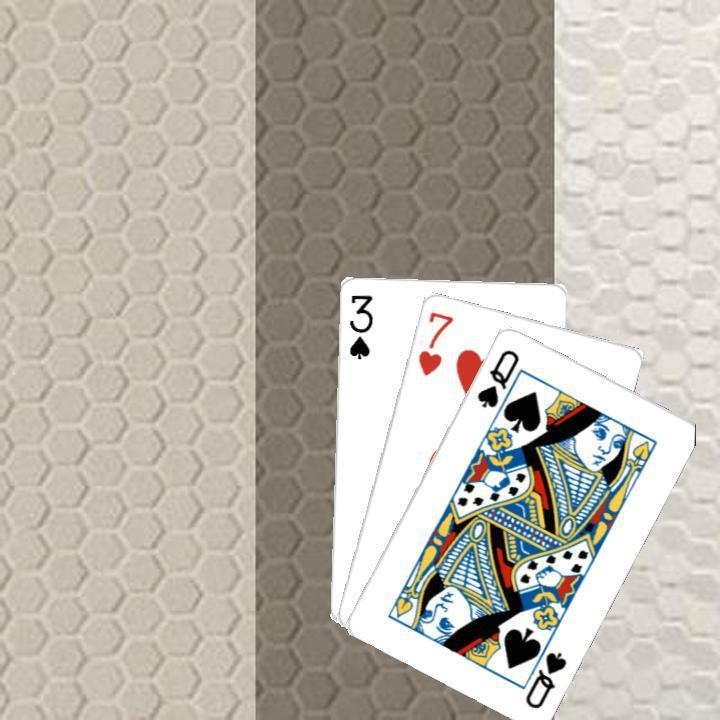3: (344, 289, 374, 361)
7: (413, 306, 455, 378)
Q: (472, 344, 521, 410), (520, 647, 569, 710)
